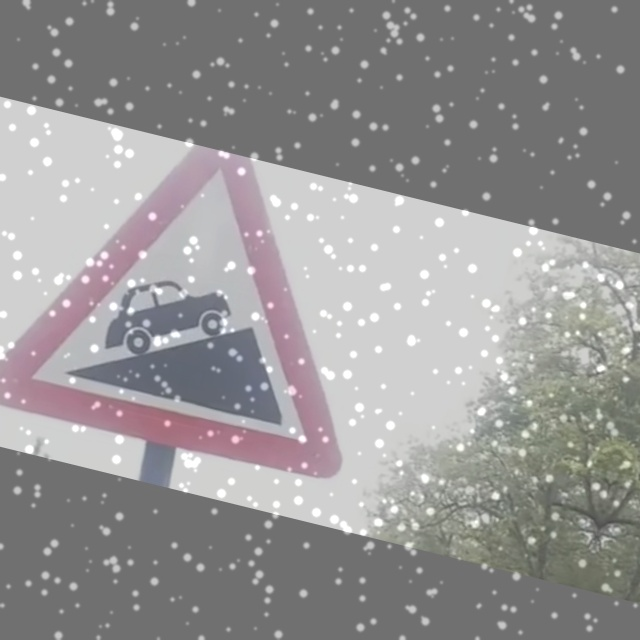Steep_Ascent: (1, 133, 395, 482)
